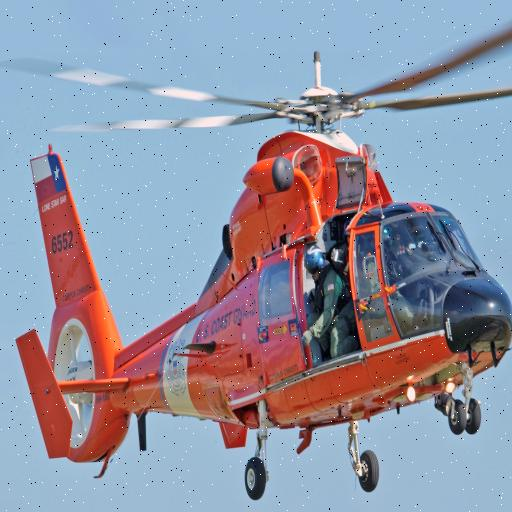helicopter: (9, 41, 512, 498)
